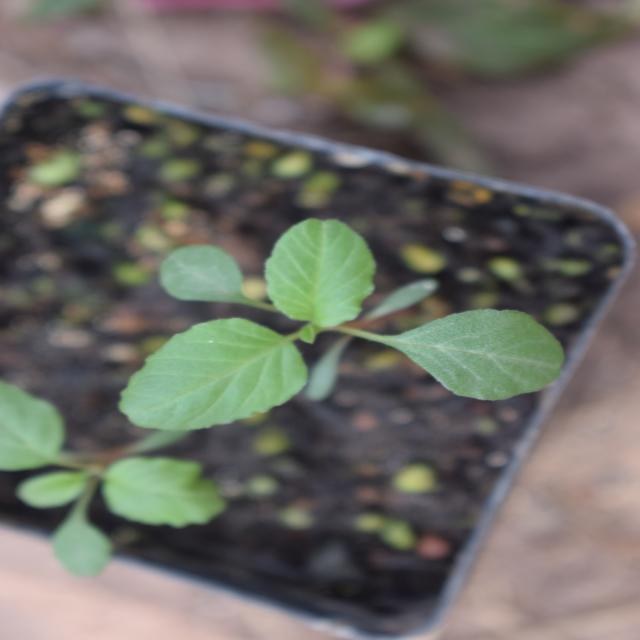pigweed: (192, 102, 426, 564)
